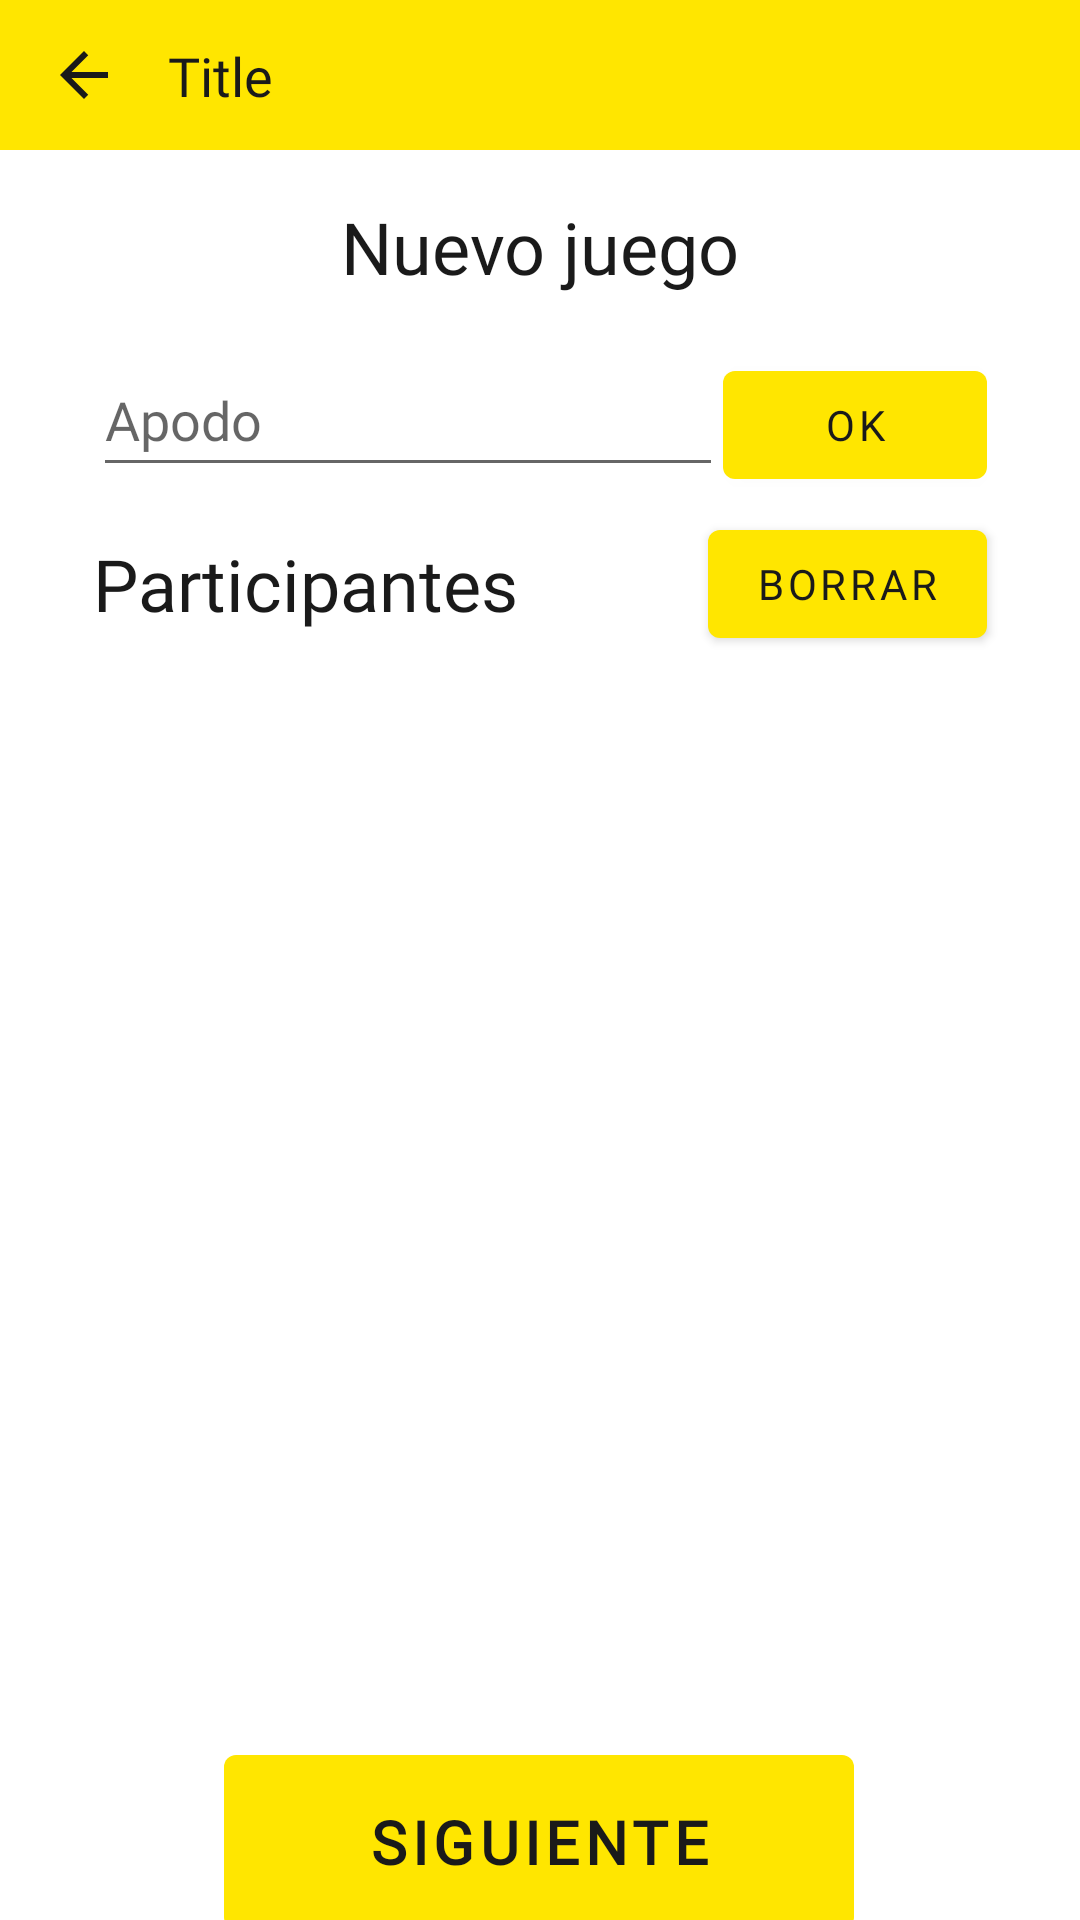

Icons on this 1080×1920 Android screen, each with the point to tap as point (x, y):
arrow back: point (84, 75)
